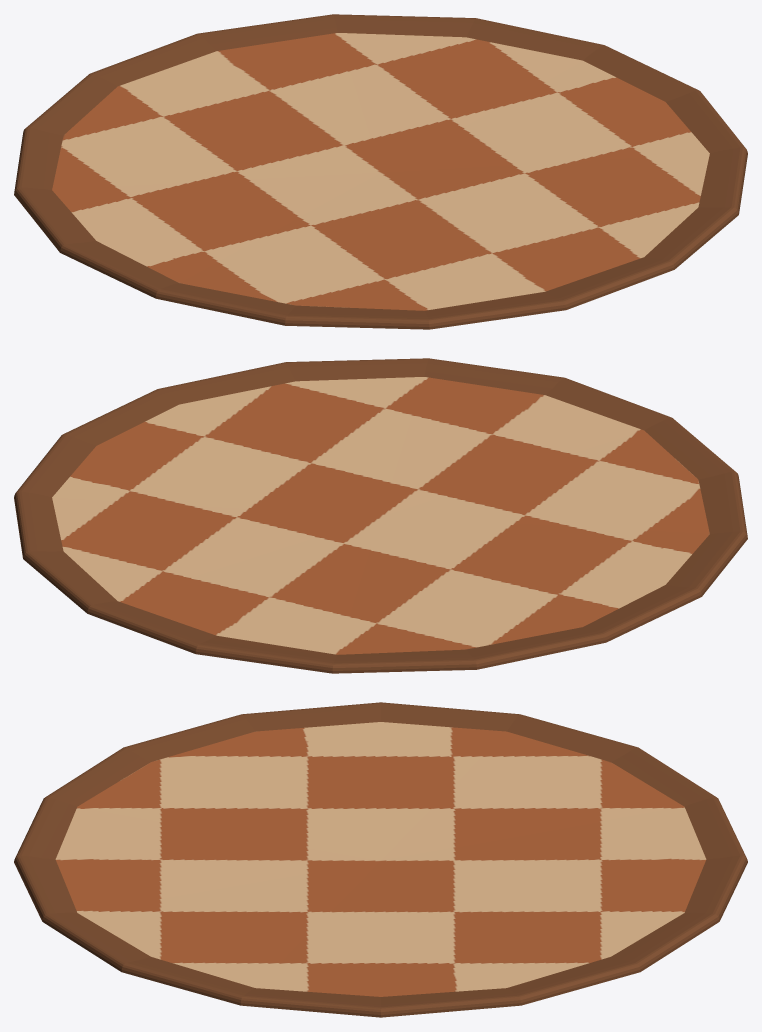
The model's file is Carpet_Beige_Check.fbx.
3 renders of one model, top to bottom at view 1: azimuth 30°, elevation 25°; view 2: azimuth 150°, elevation 25°; view 3: azimuth 270°, elevation 25°, orthographic.
Visible parts, largest first — view 1: Carpet_Beige_Check; view 2: Carpet_Beige_Check; view 3: Carpet_Beige_Check.
Boxes of the visible parts, left/top/right/bottom form: Carpet_Beige_Check: left=14, top=14, right=747, bottom=329; Carpet_Beige_Check: left=14, top=358, right=747, bottom=673; Carpet_Beige_Check: left=14, top=702, right=747, bottom=1017.
Bounding box in the file's own units: 5.05 × 0.0685 × 5.05.
